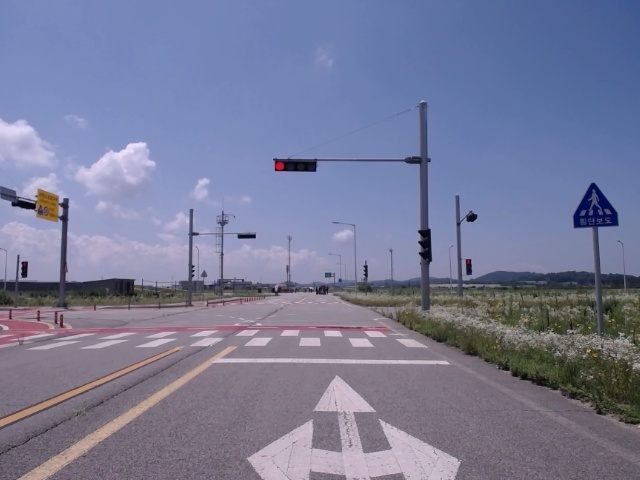red_4: (274, 160, 317, 172)
